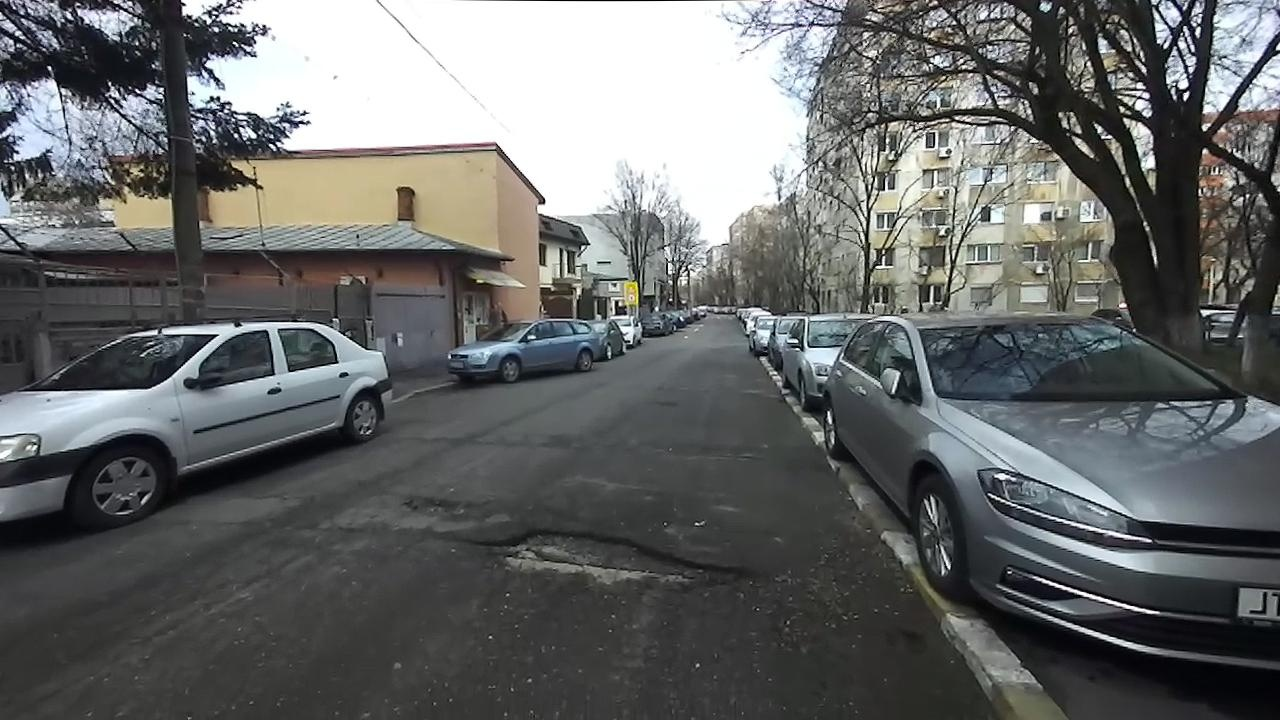pothole: (448, 523, 757, 600), (396, 487, 481, 516)
